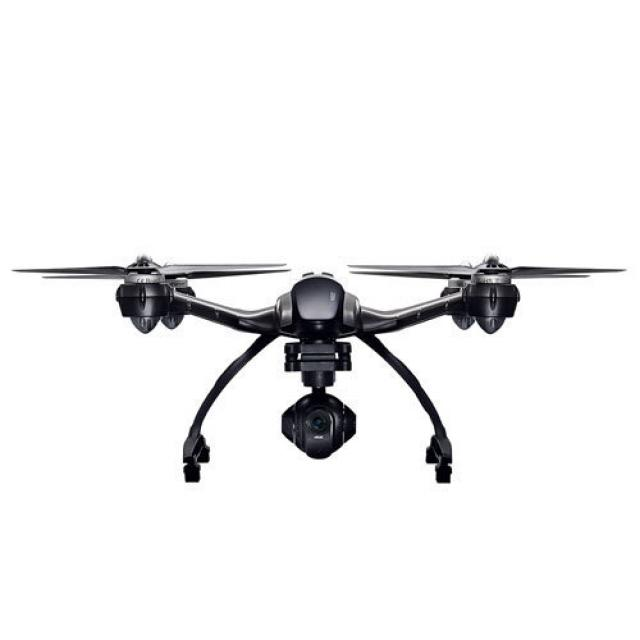drones: (12, 247, 621, 488)
